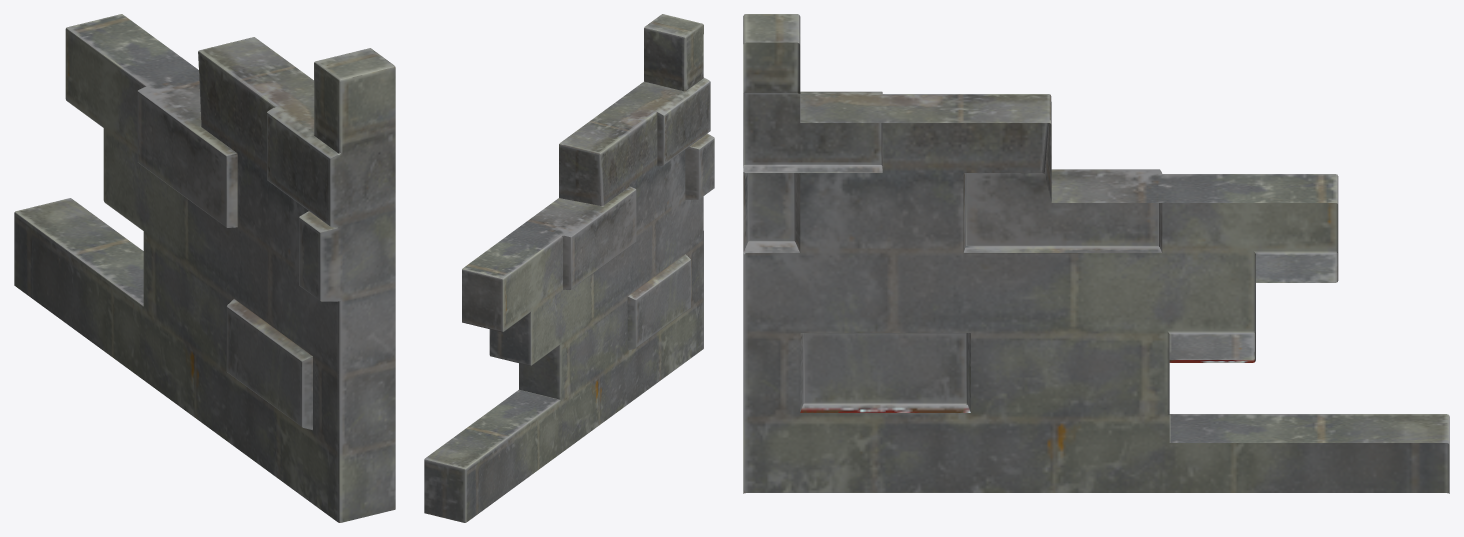
Rendered from SM_Broken_Brick_Walls_Concrete_Brick_Wall_Small.fbx.
3 views of the same model, side by side, from view 1: azimuth 30°, elevation 25°; view 2: azimuth 150°, elevation 25°; view 3: azimuth 270°, elevation 25° (orthographic). The views are drawn at different scales.
Parts seen in each view (by area): view 1: SM_Broken_Brick_Walls_Concrete_Brick_Wall_Small_LOD0; view 2: SM_Broken_Brick_Walls_Concrete_Brick_Wall_Small_LOD0; view 3: SM_Broken_Brick_Walls_Concrete_Brick_Wall_Small_LOD0.
Part boxes in pixels (x1,y1,x2,y2): SM_Broken_Brick_Walls_Concrete_Brick_Wall_Small_LOD0: (14,14,395,522); SM_Broken_Brick_Walls_Concrete_Brick_Wall_Small_LOD0: (424,14,714,522); SM_Broken_Brick_Walls_Concrete_Brick_Wall_Small_LOD0: (743,14,1449,493).
Bounding box in the file's own units: 25.93 × 200 × 150.
1 material, 1 textured.
